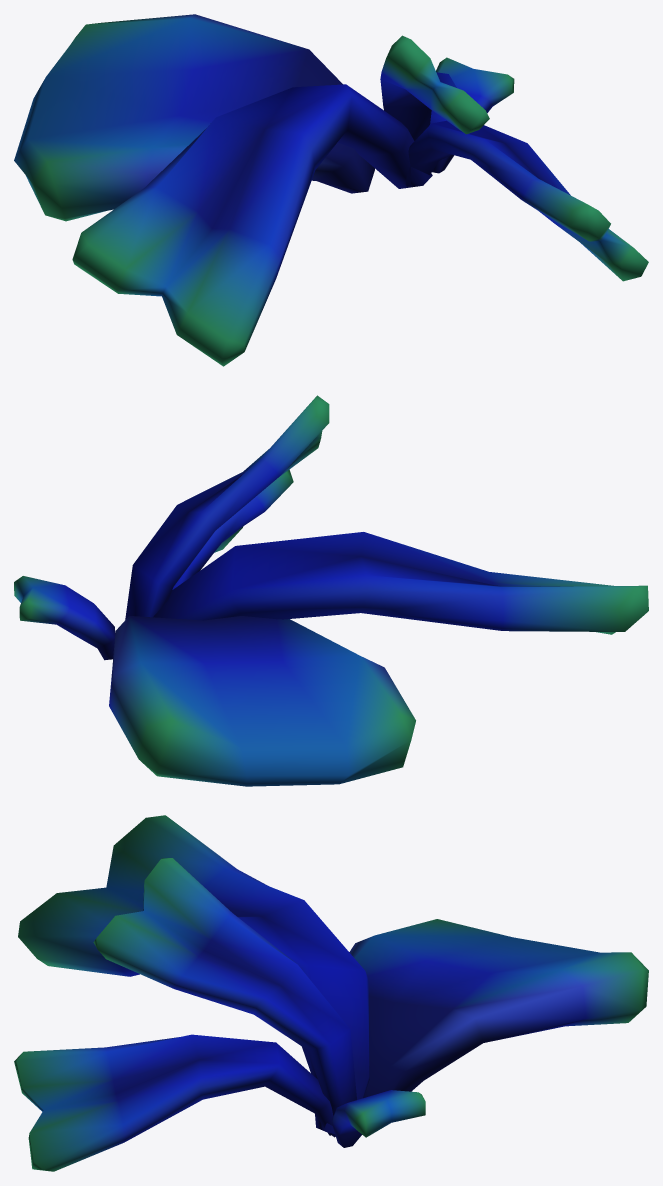
The model's file is Alien_Grass06.fbx.
The picture shows the model from 3 angles, top to bottom: view 1: azimuth 30°, elevation 25°; view 2: azimuth 150°, elevation 25°; view 3: azimuth 270°, elevation 25°; orthographic projection. The views are drawn at different scales.
Visible parts, largest first — view 1: Alien_Grass06; view 2: Alien_Grass06; view 3: Alien_Grass06.
Boxes of the visible parts, x1,y1,x2,y2 form: Alien_Grass06: [14, 14, 648, 366]; Alien_Grass06: [14, 395, 648, 786]; Alien_Grass06: [14, 815, 648, 1171].
Bounding box in the file's own units: 3158 × 1315 × 3202.
